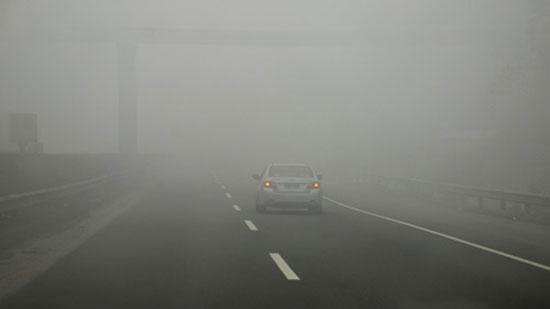car: (249, 160, 323, 214)
